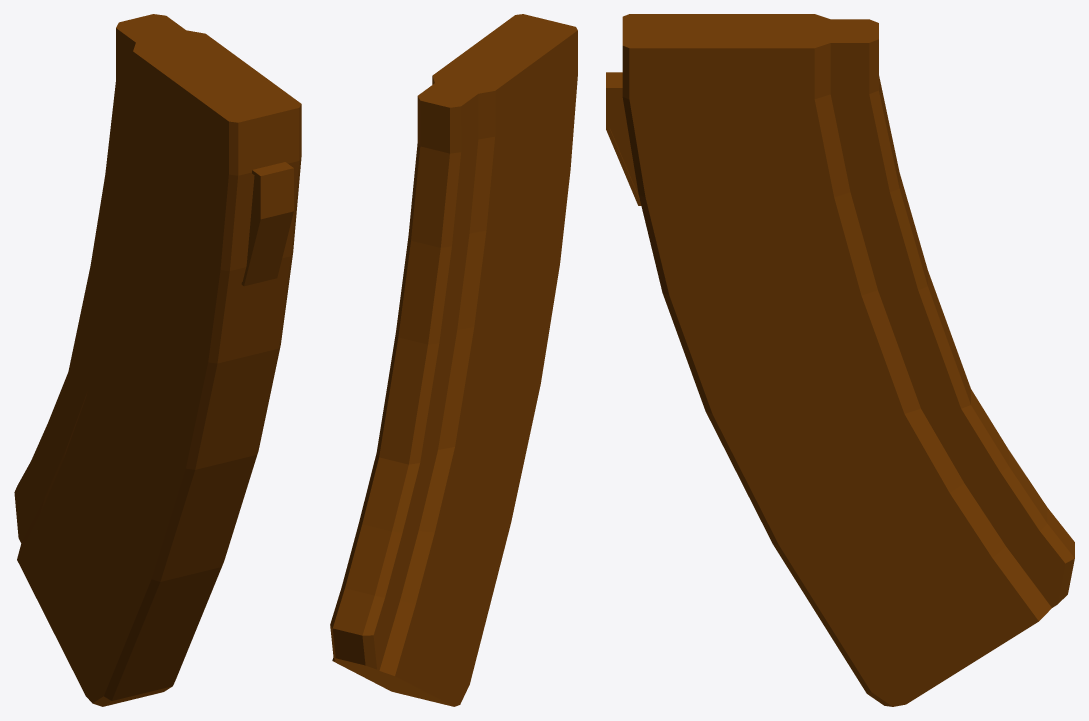
File: aks74umag.glb
The picture shows the model from 3 angles, left to right: view 1: azimuth 30°, elevation 25°; view 2: azimuth 150°, elevation 25°; view 3: azimuth 270°, elevation 25°; orthographic projection. The views are drawn at different scales.
Visible parts, largest first — view 1: Cube.117; view 2: Cube.117; view 3: Cube.117.
Part boxes in pixels (x1,y1,x2,y2): Cube.117: (14, 14, 301, 706); Cube.117: (330, 14, 577, 706); Cube.117: (606, 14, 1074, 706).
Size of the model in its own units: 0.3616 by 3.25 by 2.09.
